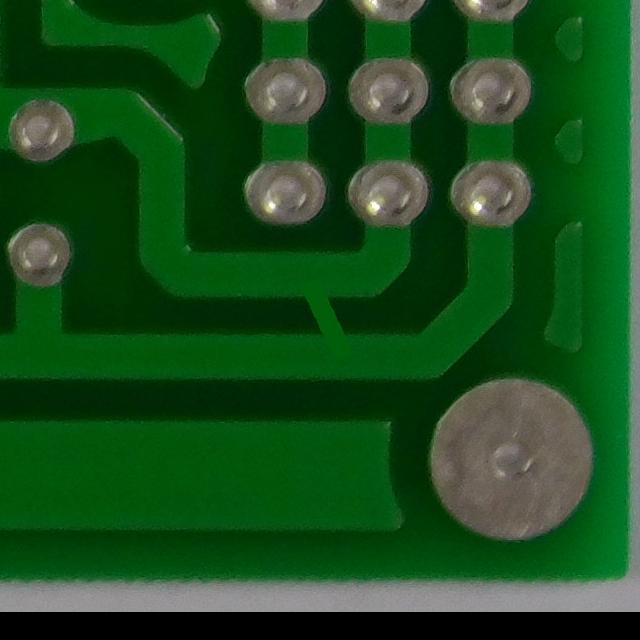short: (264, 259, 376, 382)
